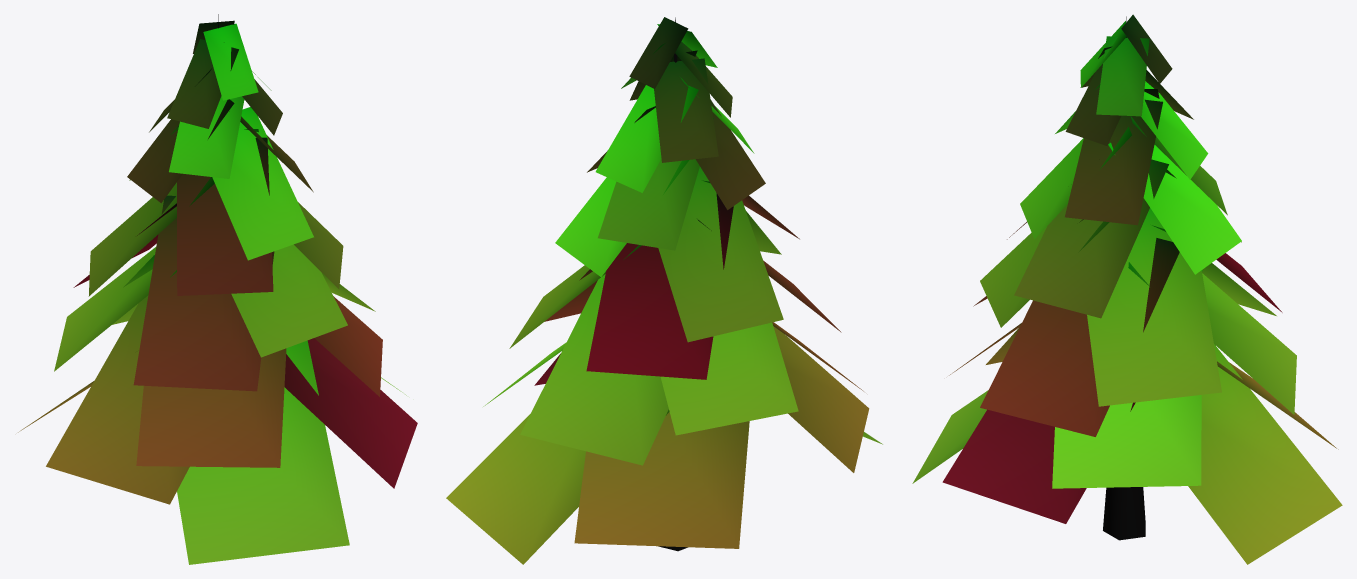
The model's file is SuperPine_1_5.fbx.
3 renders of one model, left to right at view 1: azimuth 30°, elevation 25°; view 2: azimuth 150°, elevation 25°; view 3: azimuth 270°, elevation 25°, orthographic.
Parts seen in each view (by area): view 1: SuperPine_1_5; view 2: SuperPine_1_5; view 3: SuperPine_1_5.
Part boxes in pixels (x1,y1,x2,y2): SuperPine_1_5: (18,14,417,564); SuperPine_1_5: (446,17,882,564); SuperPine_1_5: (912,14,1342,564).
Size of the model in its own units: 364 by 525 by 396.
